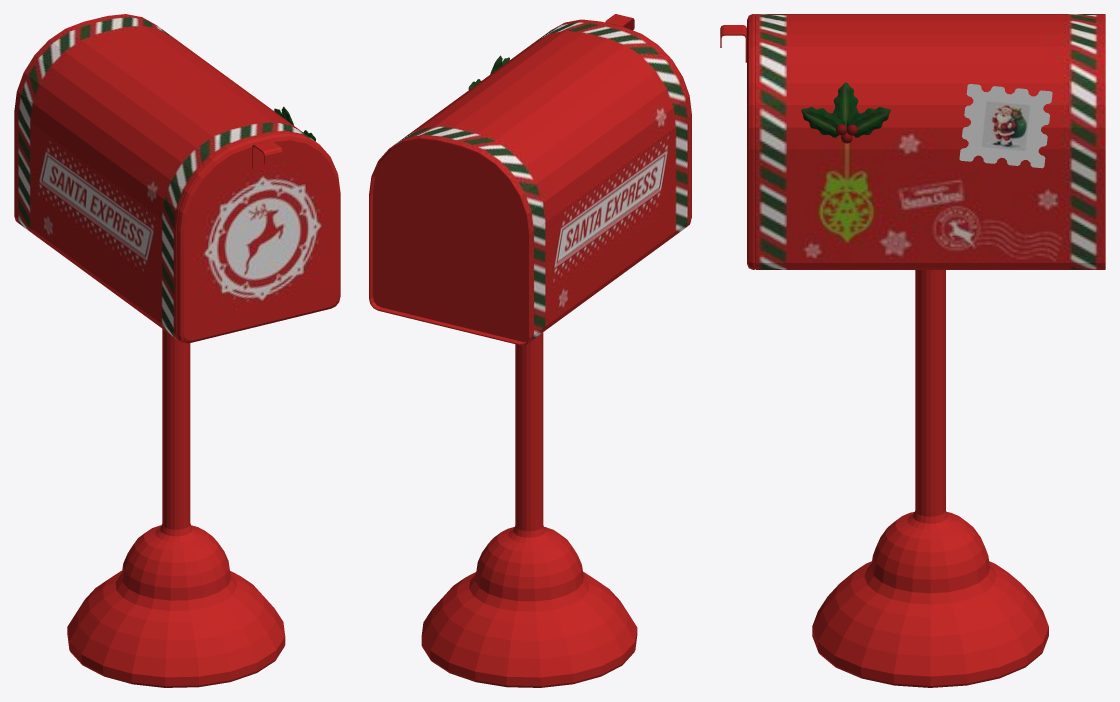
File: santa-mailbox.glb
3 renders of one model, left to right at view 1: azimuth 30°, elevation 25°; view 2: azimuth 150°, elevation 25°; view 3: azimuth 270°, elevation 25°, orthographic. The views are drawn at different scales.
Visible parts, largest first — view 1: santamailbox; view 2: santamailbox; view 3: santamailbox.
Part boxes in pixels (x1,y1,x2,y2): santamailbox: [14, 14, 340, 687]; santamailbox: [369, 14, 691, 687]; santamailbox: [720, 14, 1105, 687].
Size of the model in its own units: 0.4387 by 1.25 by 0.7145.
Materials: 1 (1 with a texture image).
